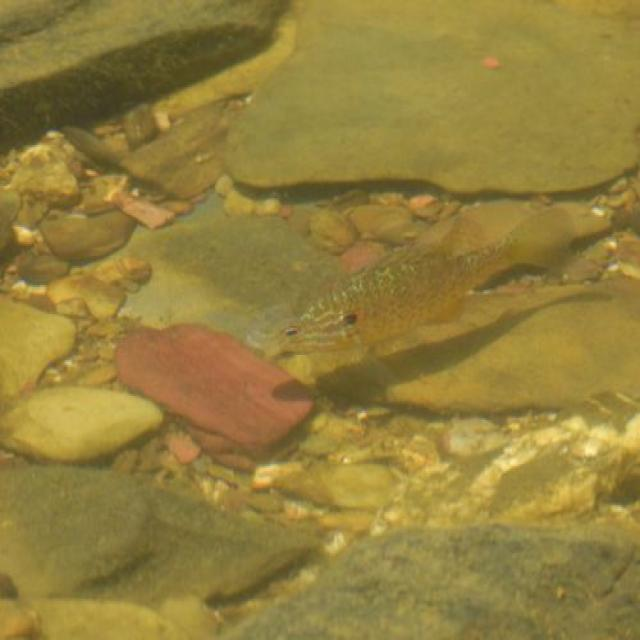Gunes Levregi: (276, 202, 591, 366)
